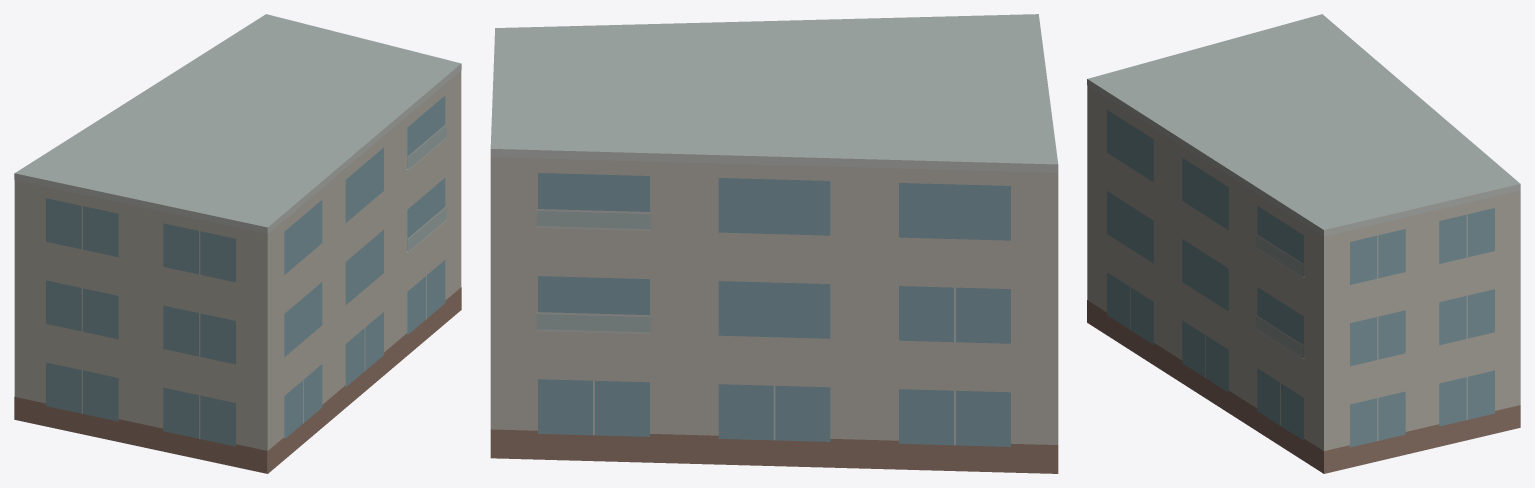
Rendered from survey-upis-32982969.glb.
The picture shows the model from 3 angles, left to right: view 1: azimuth 30°, elevation 25°; view 2: azimuth 150°, elevation 25°; view 3: azimuth 270°, elevation 25°; orthographic projection. The views are drawn at different scales.
Parts seen in each view (by area): view 1: survey-upis-32982969.tmp; view 2: survey-upis-32982969.tmp; view 3: survey-upis-32982969.tmp.
Part boxes in pixels (<box>): survey-upis-32982969.tmp: <box>14,14,461,473</box>; survey-upis-32982969.tmp: <box>490,14,1058,473</box>; survey-upis-32982969.tmp: <box>1087,14,1520,473</box>.
Size of the model in its own units: 17.41 by 9.15 by 14.76.
